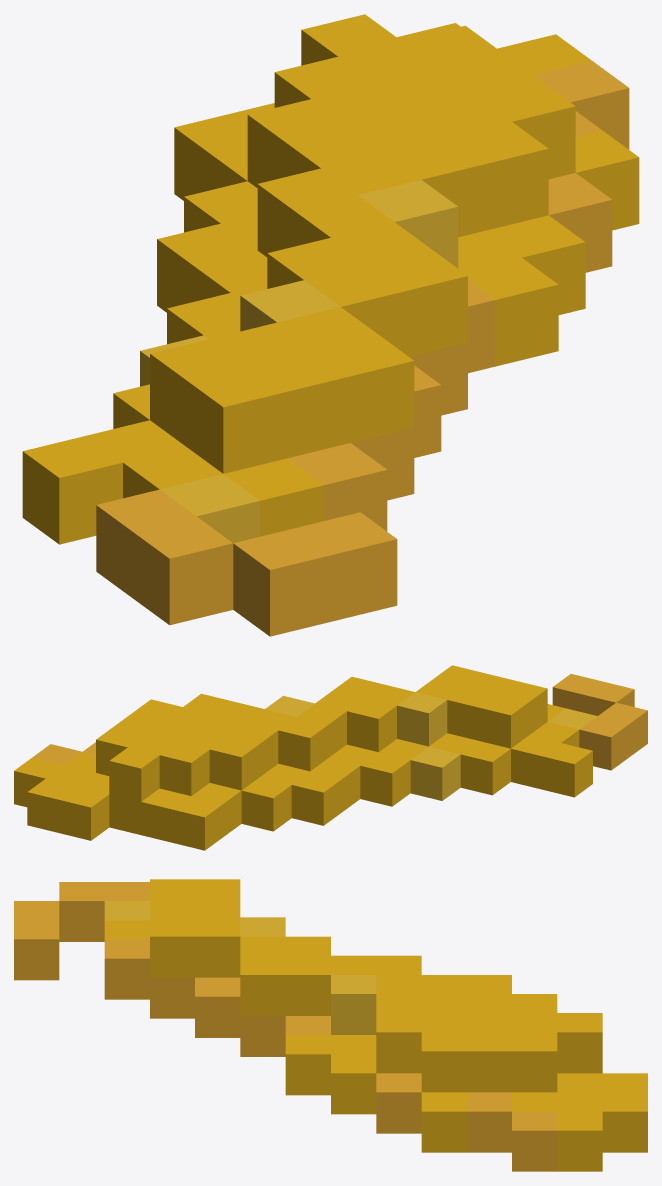
File: grass_patches-10.obj
3 renders of one model, top to bottom at view 1: azimuth 30°, elevation 25°; view 2: azimuth 150°, elevation 25°; view 3: azimuth 270°, elevation 25°, orthographic. The views are drawn at different scales.
Size of the model in its own units: 1.3 by 0.2 by 1.4.
Materials: 1 (1 with a texture image).
